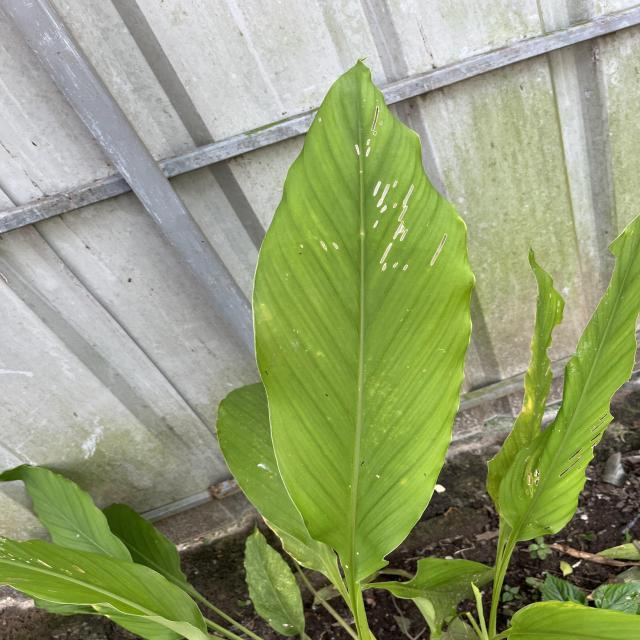Curcuma longa: (246, 52, 482, 593)
